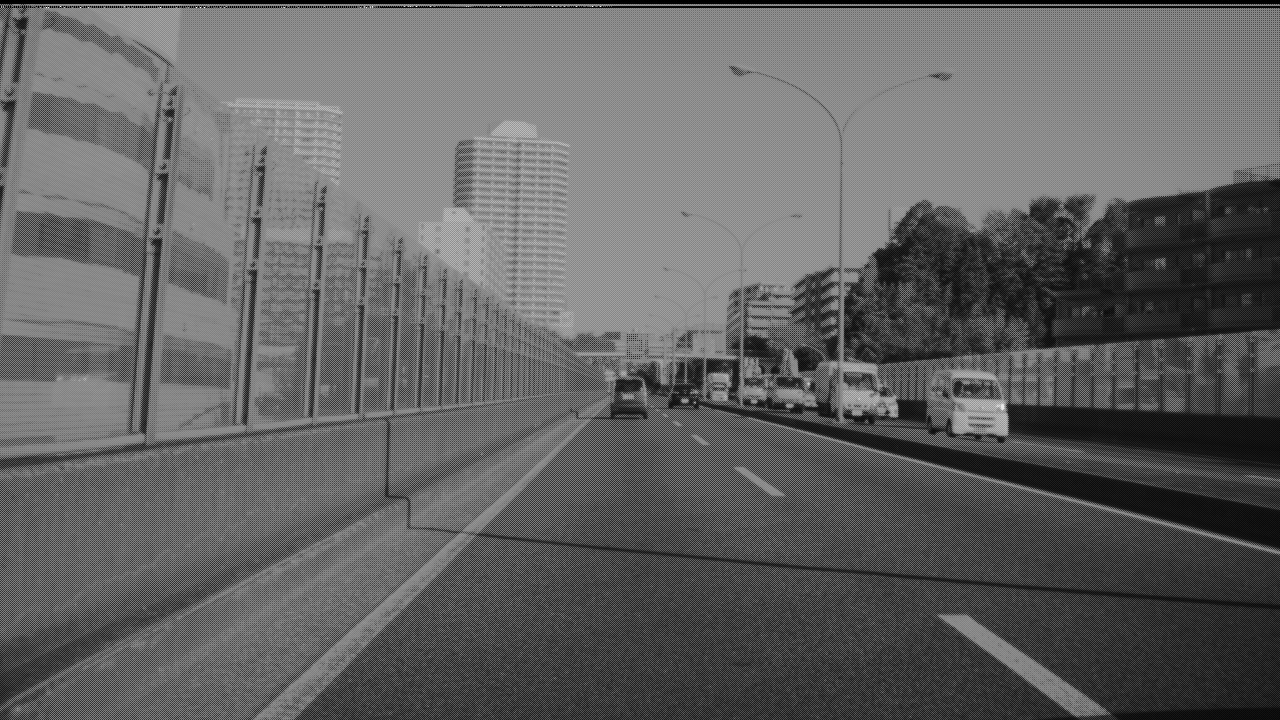pole: (836, 130, 845, 414), (738, 243, 743, 398), (701, 283, 707, 394)
